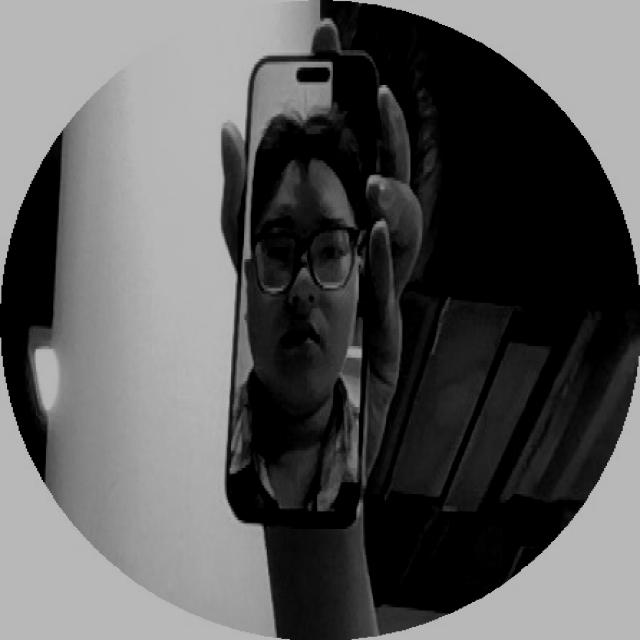fake: (215, 40, 399, 541), (209, 48, 398, 530)
